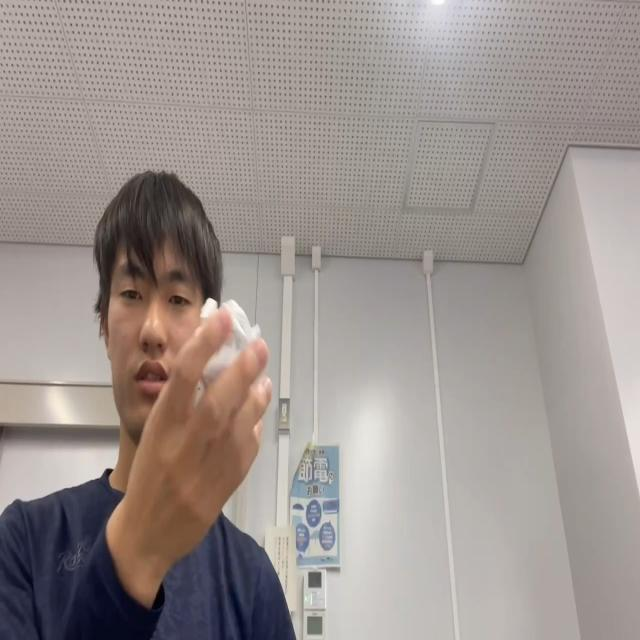paper: (197, 296, 261, 393)
